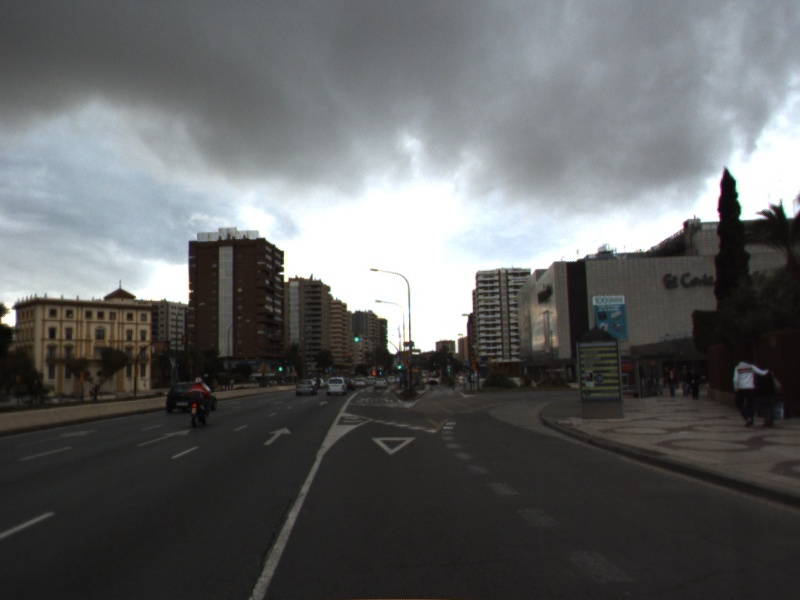STRAIGHT: (134, 426, 193, 448), (261, 425, 294, 447)
